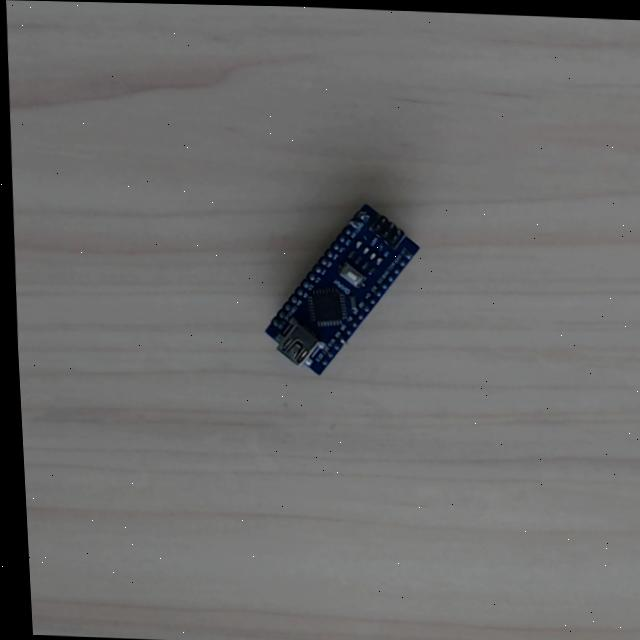Arduino-Nano: (259, 201, 422, 379)
